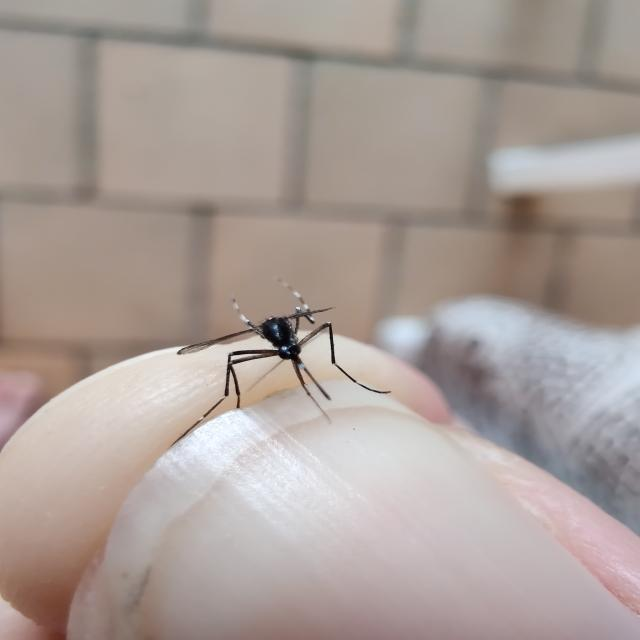albopictus: (160, 275, 394, 475)
